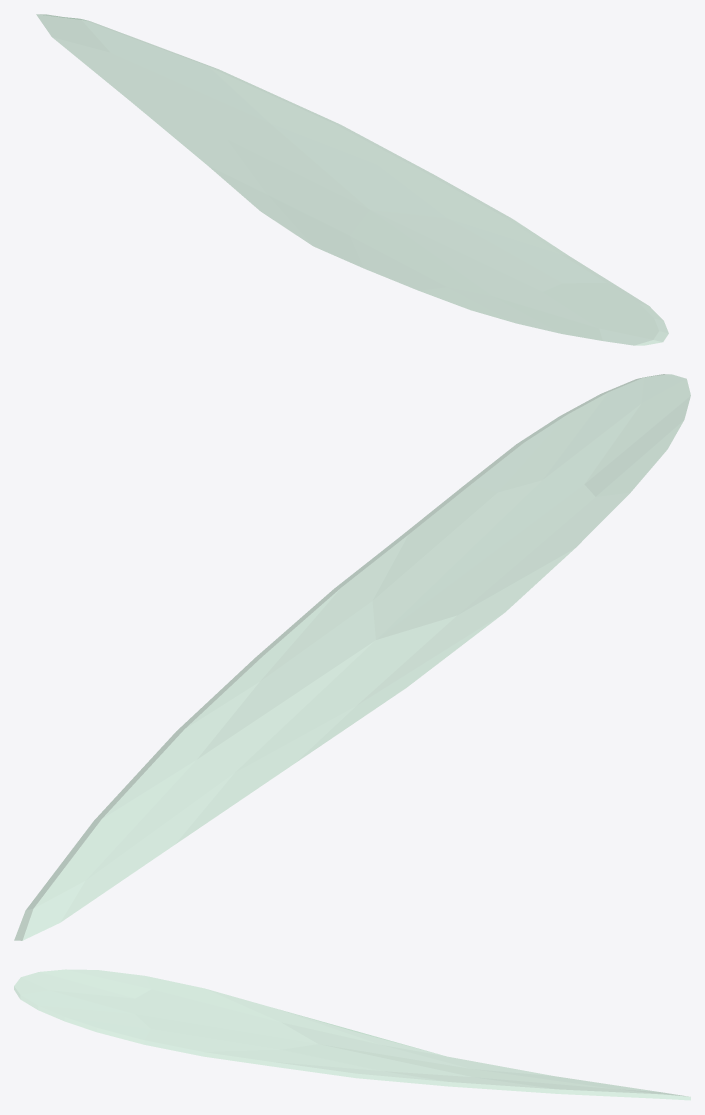
Rendered from ScreecherWingR.fbx.
3 renders of one model, top to bottom at view 1: azimuth 30°, elevation 25°; view 2: azimuth 150°, elevation 25°; view 3: azimuth 270°, elevation 25°, orthographic. The views are drawn at different scales.
Parts seen in each view (by area): view 1: Wing1; view 2: Wing1; view 3: Wing1.
Part boxes in pixels (<box>): Wing1: <box>36,14,668,345</box>; Wing1: <box>14,374,690,940</box>; Wing1: <box>14,969,690,1100</box>.
Bounding box in the file's own units: 3.88 × 3.13 × 20.06.
